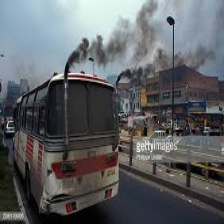smoke: (63, 6, 202, 79)
